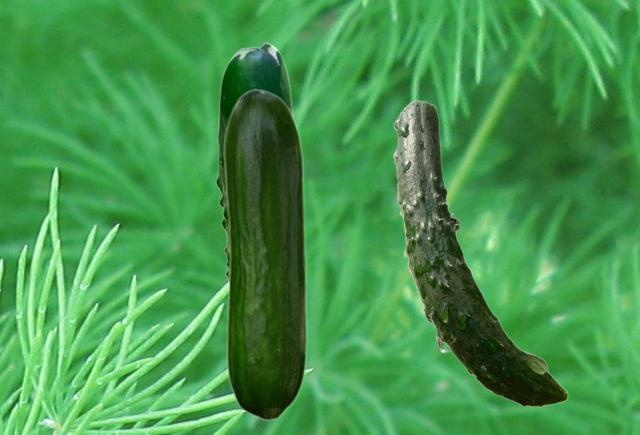cucumber: (392, 100, 567, 406), (223, 88, 307, 420), (215, 42, 296, 278)
